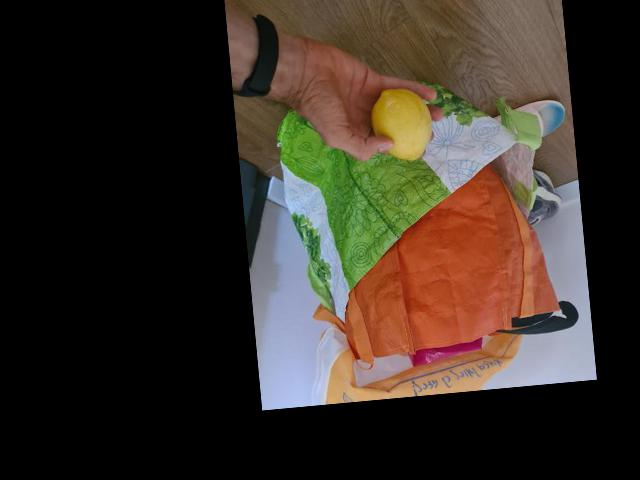lemon: (366, 84, 434, 164)
